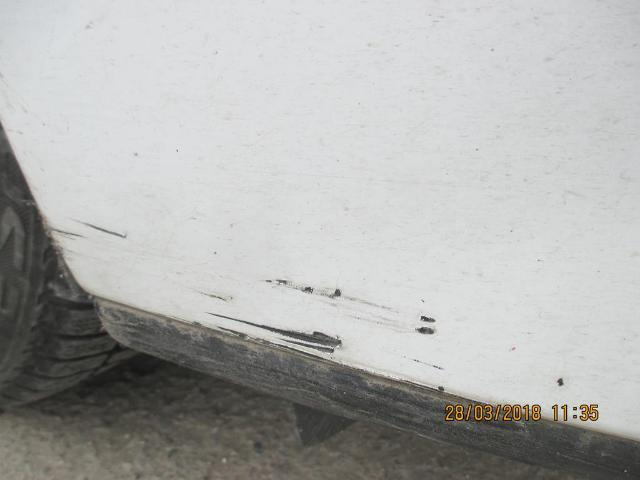scratch: (207, 313, 342, 353), (260, 277, 397, 313), (67, 218, 126, 238), (539, 371, 576, 395), (198, 288, 234, 305), (402, 357, 446, 370), (416, 315, 438, 336), (46, 226, 84, 237), (439, 387, 445, 392)
